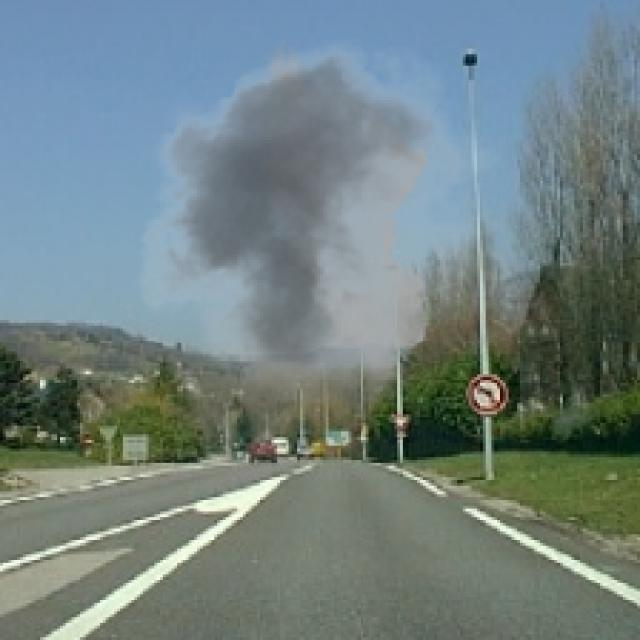Smoke: (120, 26, 506, 406)
